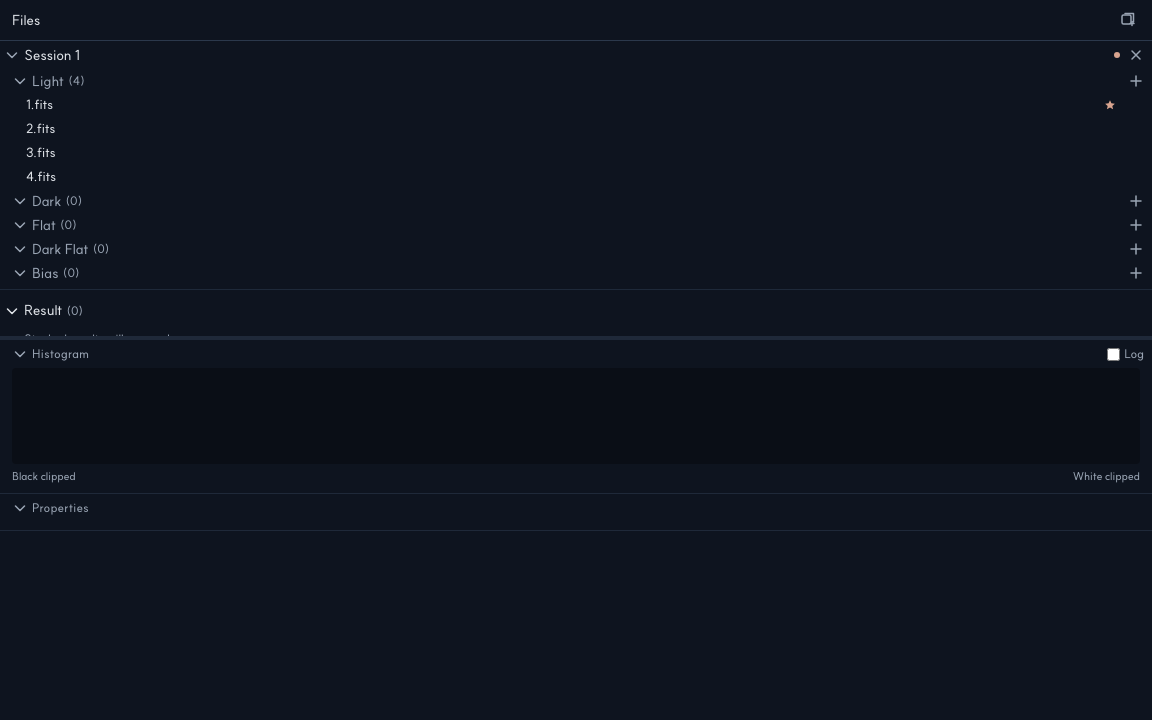
Test: file list interactions › can release a master and has no master option for Light
Right-click the option titled "/l/1.fits" at (40, 104), box [0,93,1151,117]
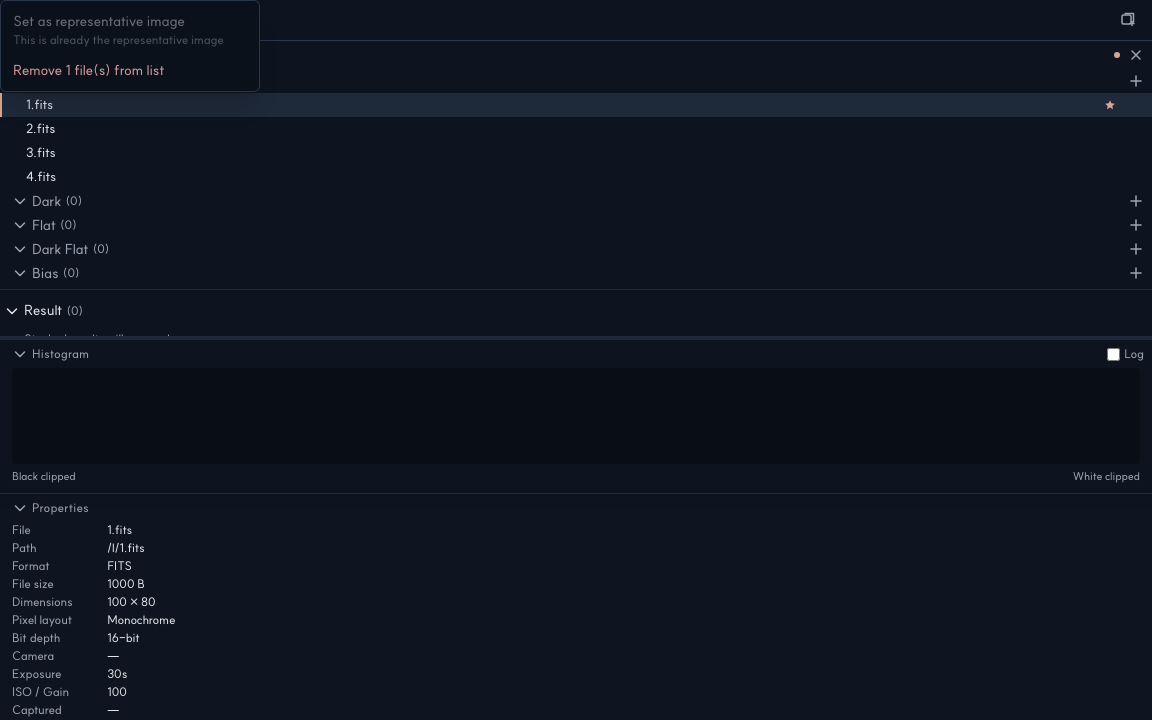
expect the menu item "Remove 1 file(s) from list" is shown: met, box [1,54,259,87]
